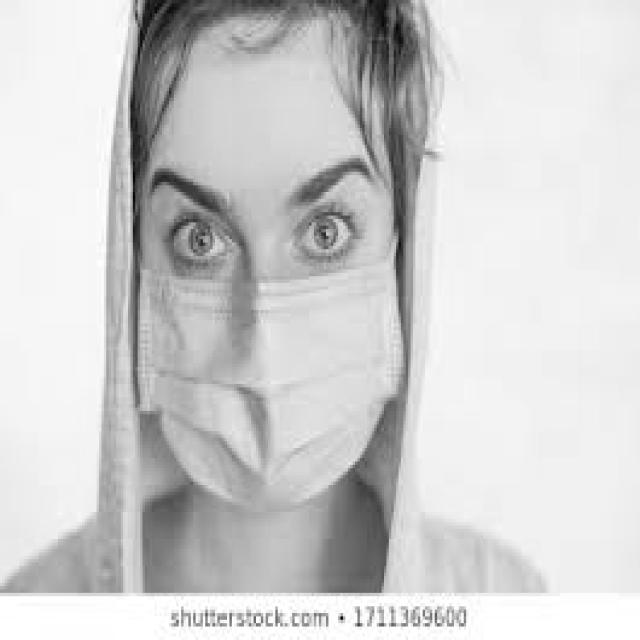with_mask: (133, 236, 406, 512)
